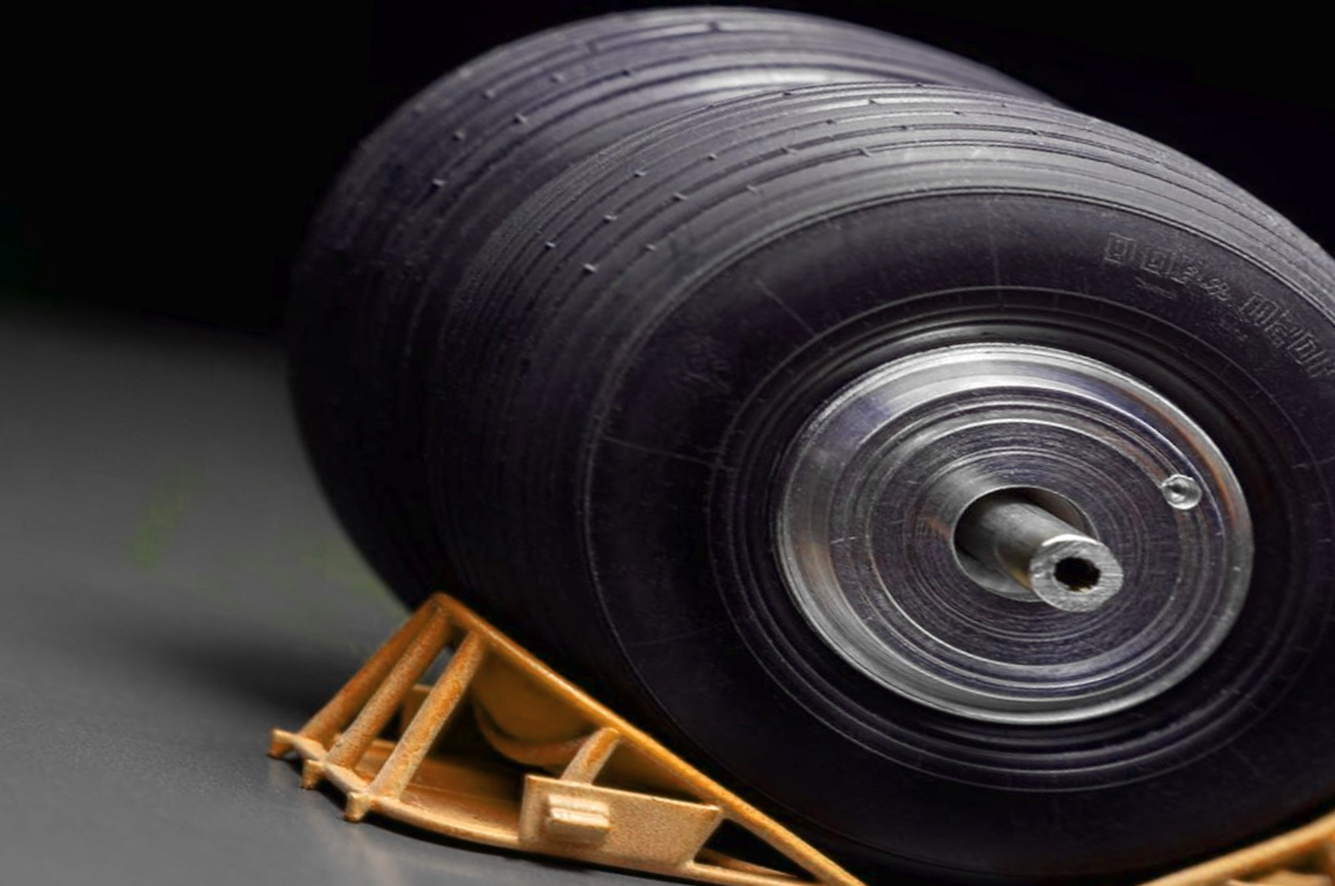chock: (231, 560, 949, 886), (979, 692, 1335, 886)
wheel: (142, 0, 1290, 886), (260, 0, 1335, 886)
